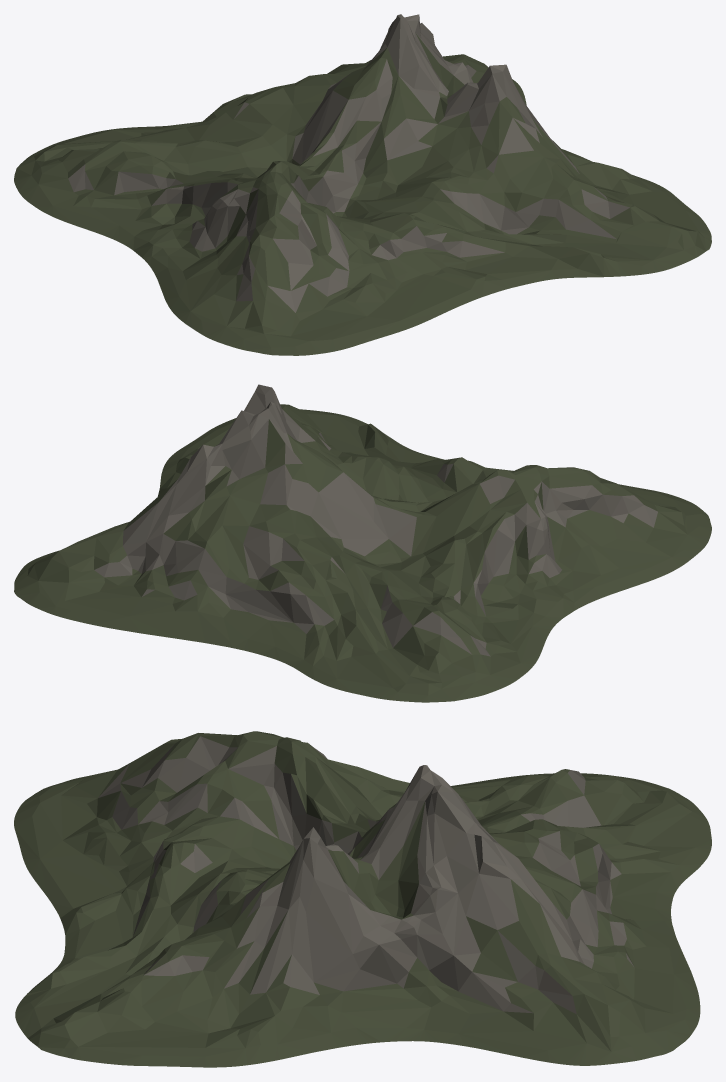
File: bg-hill-a.glb
3 views of the same model, one above another, from view 1: azimuth 30°, elevation 25°; view 2: azimuth 150°, elevation 25°; view 3: azimuth 270°, elevation 25° (orthographic). The views are drawn at different scales.
Visible parts, largest first — view 1: SM_Env_Mountains_Grass_01; view 2: SM_Env_Mountains_Grass_01; view 3: SM_Env_Mountains_Grass_01.
Boxes of the visible parts, <box> form: SM_Env_Mountains_Grass_01: <box>14,14,711,355</box>; SM_Env_Mountains_Grass_01: <box>14,384,711,702</box>; SM_Env_Mountains_Grass_01: <box>14,731,711,1067</box>.
Size of the model in its own units: 23.89 by 7.24 by 23.61.
Materials: 1 (1 with a texture image).
